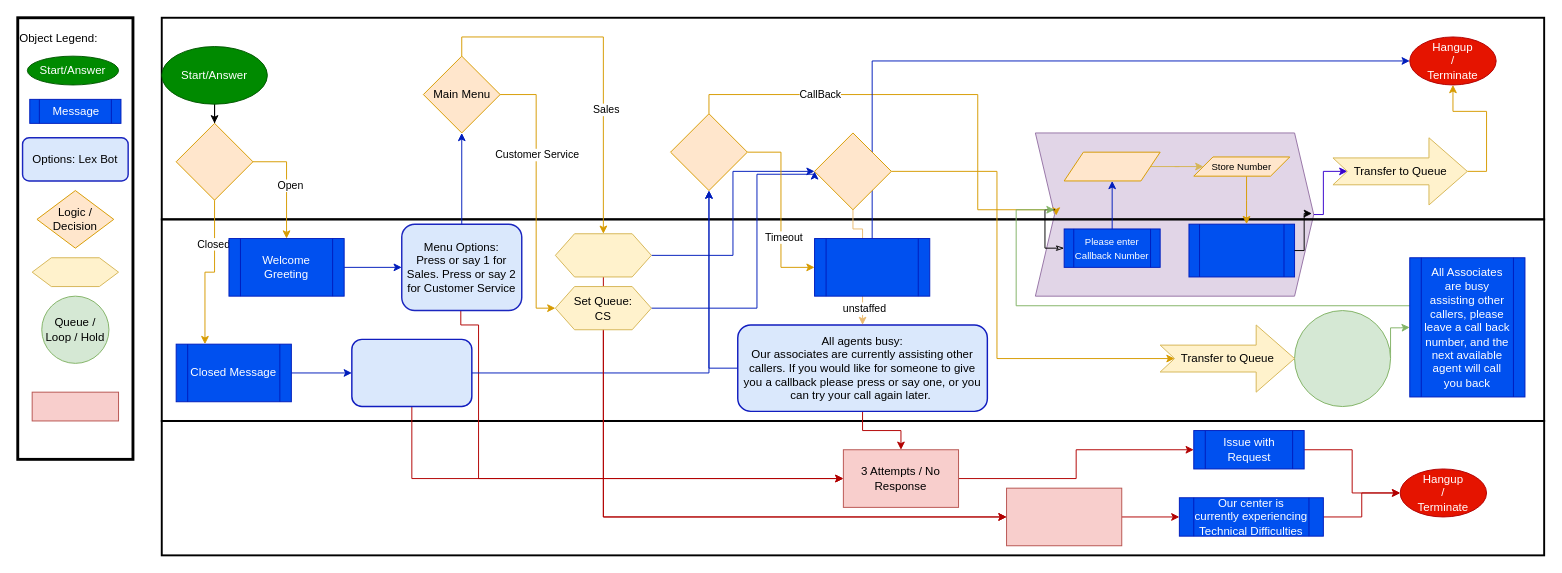
This 1562x573 diagram has some shape labels left out. The centre of each missing label's shape, as x and y in pixels:
Action / Set: (x=75, y=272)
Callback ?: (x=708, y=152)
Closed Options: We are currently closed. to receive a call back Press or say one: (x=411, y=372)
Collect/Validate Number: (x=1111, y=166)
error flow: (x=75, y=406)
Office Hours ?: (x=214, y=161)
Queued: Please hold for the next available agent. Hold 30 sec: (x=1342, y=358)
Set Queue: Sales: (x=602, y=255)
Sorry we Missed You, Good Bye: (x=872, y=267)
Staffed ?: (x=852, y=171)
Technical Difficulties: (x=1064, y=516)
Thank you, you will be contact when a team member is available: (x=1241, y=250)
